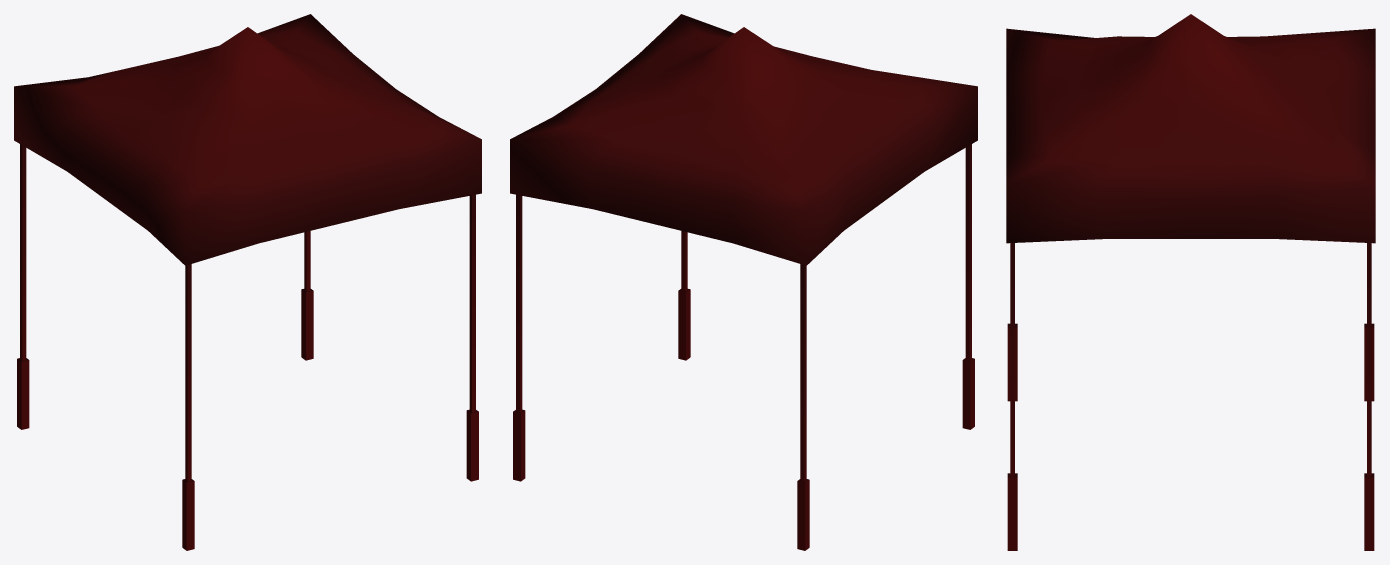
Rendered from buildings-tents-markettent_v1.fbx.
3 renders of one model, left to right at view 1: azimuth 30°, elevation 25°; view 2: azimuth 150°, elevation 25°; view 3: azimuth 270°, elevation 25°, orthographic. The views are drawn at different scales.
Visible parts, largest first — view 1: MarketTent_color, MarketTent_base; view 2: MarketTent_color, MarketTent_base; view 3: MarketTent_color, MarketTent_base.
Part boxes in pixels (x1=…): MarketTent_color: x1=14, y1=14, x2=481, y2=265; MarketTent_base: x1=17, y1=144, x2=478, y2=550; MarketTent_color: x1=510, y1=14, x2=977, y2=265; MarketTent_base: x1=513, y1=144, x2=974, y2=550; MarketTent_color: x1=1006, y1=14, x2=1375, y2=243; MarketTent_base: x1=1007, y1=243, x2=1374, y2=550.
Bounding box in the file's own units: 4.88 × 6.7 × 4.88.
